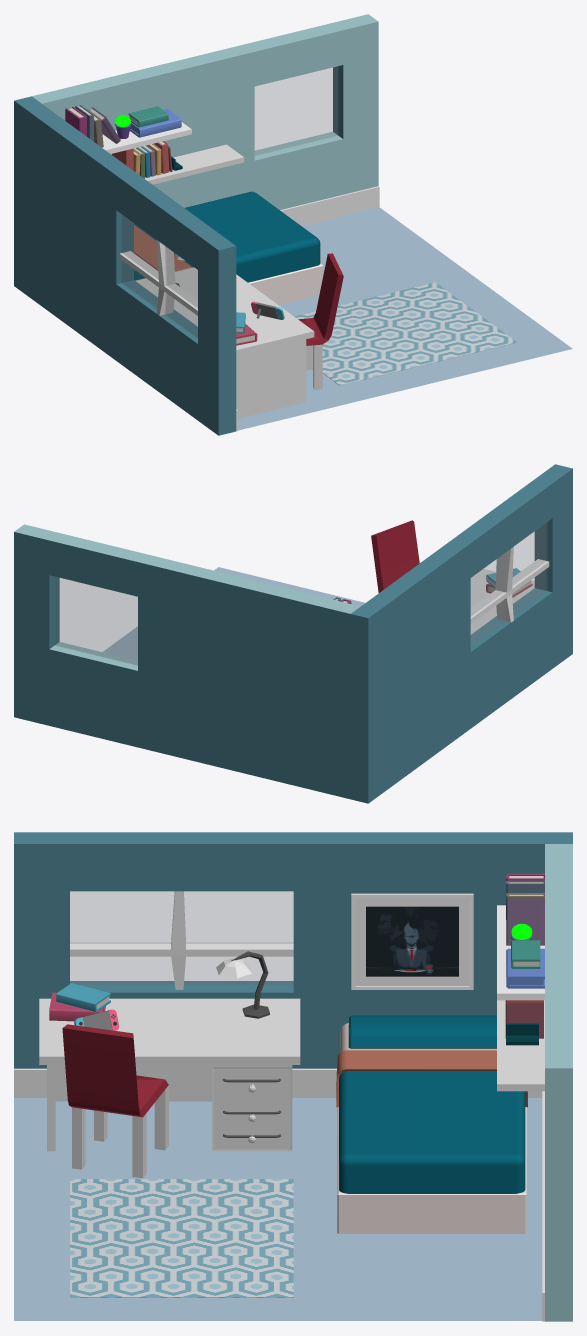
File: isometric-room.fbx
3 views of the same model, one above another, from view 1: azimuth 30°, elevation 25°; view 2: azimuth 150°, elevation 25°; view 3: azimuth 270°, elevation 25° (orthographic). The views are drawn at different scales.
Parts seen in each view (by area): view 1: Walls_Wall_1_0, Walls_Alfombra_0, Floor_phong1_0, Floor_Carpet_with_border_0, Desk_Desk_Shader_0, Bed_Matress_lambert39_0, Window_Glass1_phong4_0, Window_Glass_phong4_0, Walls_Ventana_0, Walls_Zocalo_2_0, Chair_Mat_Chair_cushion_0, Bed_Base_lambert42_0 (+6 smaller); view 2: Walls_Wall_1_0, Window_Glass1_phong4_0, Walls_Alfombra_0, Window_Glass_phong4_0, Chair_Mat_Chair_cushion_0, Walls_Ventana_0, Floor_phong1_0, Desk_Desk_Shader_0; view 3: Walls_Wall_1_0, Floor_phong1_0, Floor_Carpet_with_border_0, Desk_Desk_Shader_0, Bed_Matress_lambert39_0, Window_Glass_phong4_0, Walls_Alfombra_0, Bed_Base_lambert42_0, Chair_Mat_Chair_cushion_0, Marco_phong2_0, Pillow_lambert38_0, Walls_Ventana_0 (+16 smaller).
Boxes of the visible parts, box(x1,y1,x2,y2) form: Walls_Wall_1_0: box(14, 65, 343, 435); Walls_Alfombra_0: box(32, 14, 378, 209); Floor_phong1_0: box(238, 207, 572, 430); Floor_Carpet_with_border_0: box(294, 282, 516, 385); Desk_Desk_Shader_0: box(136, 267, 314, 418); Bed_Matress_lambert39_0: box(134, 191, 320, 282); Window_Glass1_phong4_0: box(255, 66, 337, 155); Window_Glass_phong4_0: box(122, 215, 197, 338); Walls_Ventana_0: box(119, 240, 197, 315); Walls_Zocalo_2_0: box(236, 186, 379, 431); Chair_Mat_Chair_cushion_0: box(298, 253, 343, 345); Bed_Base_lambert42_0: box(248, 263, 323, 304); Walls_Wall_1_0: box(14, 464, 572, 803); Window_Glass1_phong4_0: box(55, 577, 137, 665); Walls_Alfombra_0: box(14, 524, 360, 670); Window_Glass_phong4_0: box(471, 523, 546, 646); Chair_Mat_Chair_cushion_0: box(371, 520, 419, 592); Walls_Ventana_0: box(470, 546, 549, 623); Floor_phong1_0: box(103, 567, 364, 660); Desk_Desk_Shader_0: box(470, 569, 534, 634); Walls_Wall_1_0: box(14, 832, 572, 1068); Floor_phong1_0: box(14, 1098, 542, 1320); Floor_Carpet_with_border_0: box(70, 1179, 293, 1297); Desk_Desk_Shader_0: box(39, 998, 300, 1151); Bed_Matress_lambert39_0: box(339, 1071, 525, 1193); Window_Glass_phong4_0: box(70, 891, 293, 984); Walls_Alfombra_0: box(545, 844, 572, 1321); Bed_Base_lambert42_0: box(337, 1107, 526, 1233); Chair_Mat_Chair_cushion_0: box(62, 1024, 168, 1117); Marco_phong2_0: box(366, 906, 458, 976); Pillow_lambert38_0: box(348, 1015, 496, 1048); Walls_Ventana_0: box(70, 891, 293, 989).
Bounding box in the file's own units: 2000 × 1000 × 2000.
Materials: 59 (2 with a texture image).
